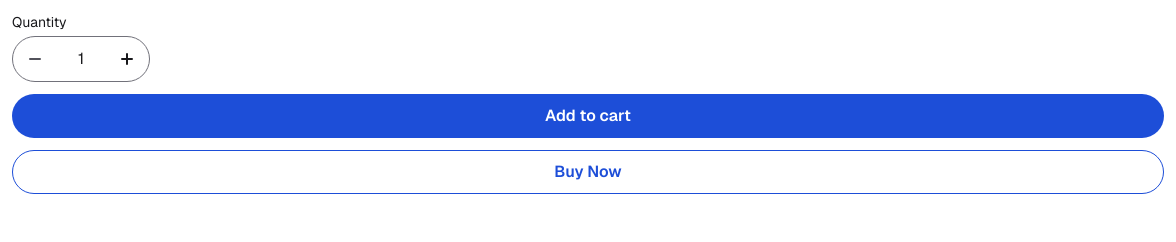
it: AddToCartForm v2: Buy Now › pending Buy Now disables both buttons
Click the button "Buy Now" at [588, 172], box [12,150,1164,194]
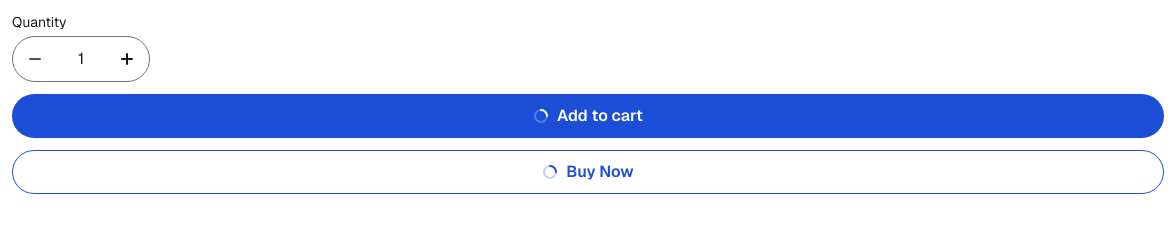
Expected: the button "Buy Now" has attribute aria-busy="true", [12,150,1164,194]
Expected: the button "Add to cart" has attribute aria-busy="true"
Click the button "Add to cart" at [588, 116], box [12,94,1164,138]
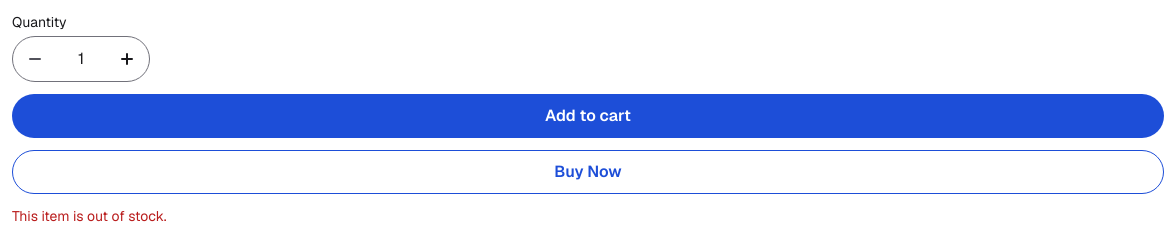
Expected: the message reads "This item is out of stock.", [12,207,166,225]
